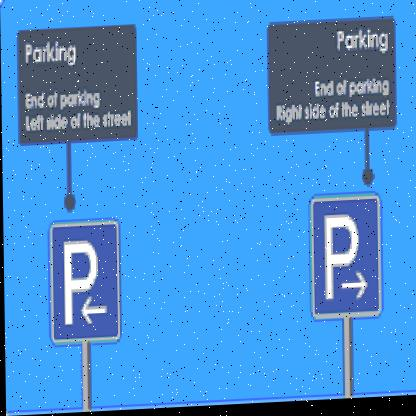Parking: (306, 184, 382, 327), (51, 214, 122, 349)
